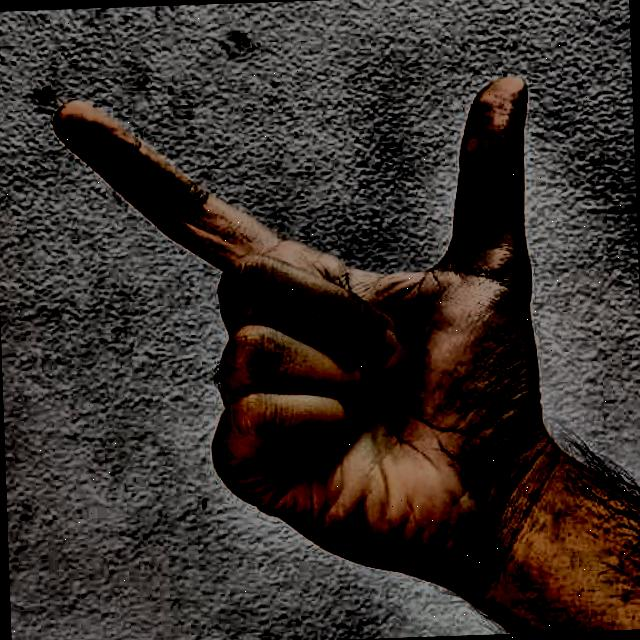ChandraBindu: (31, 6, 578, 610)
